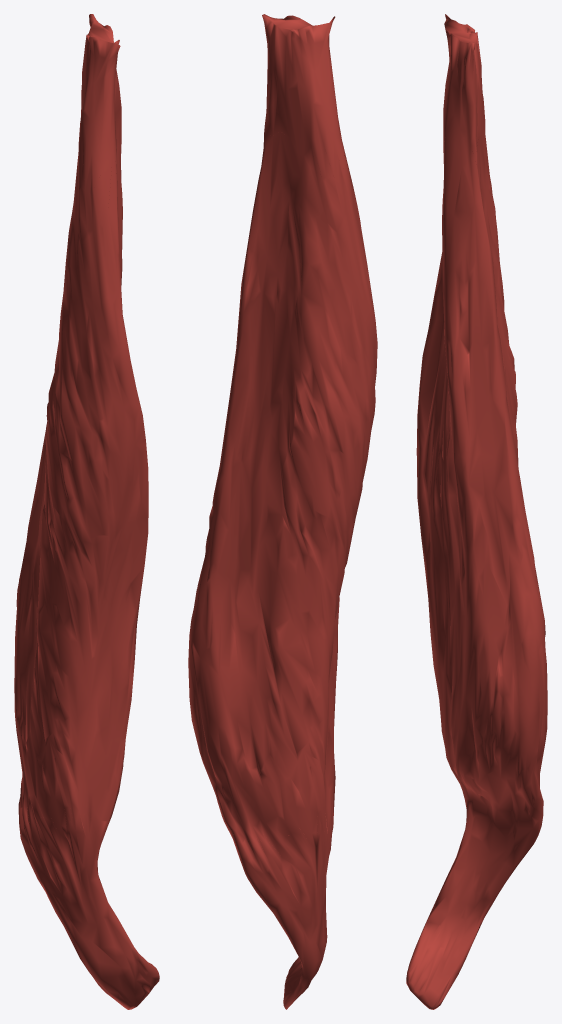
File: musculos-semimembranosus-muscle-l.glb
3 renders of one model, left to right at view 1: azimuth 90°, elevation 25°; view 2: azimuth 150°, elevation 25°; view 3: azimuth 270°, elevation 25°, orthographic. The views are drawn at different scales.
Visible parts, largest first — view 1: Semimembranosus muscle.l; view 2: Semimembranosus muscle.l; view 3: Semimembranosus muscle.l.
Part boxes in pixels (x1=…): Semimembranosus muscle.l: x1=14, y1=14, x2=159, y2=1009; Semimembranosus muscle.l: x1=188, y1=14, x2=377, y2=1009; Semimembranosus muscle.l: x1=406, y1=14, x2=547, y2=1009.
Bounding box in the file's own units: 0.0637 × 0.4173 × 0.0551.
